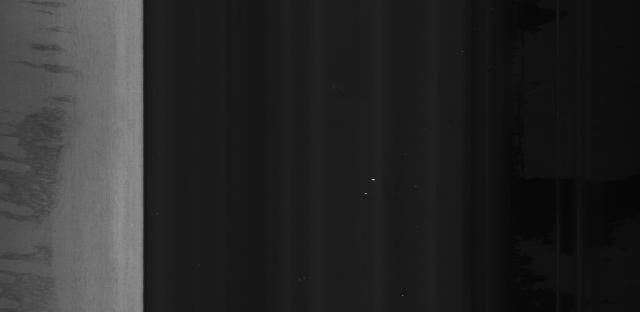water_spot: (3, 10, 88, 306)
